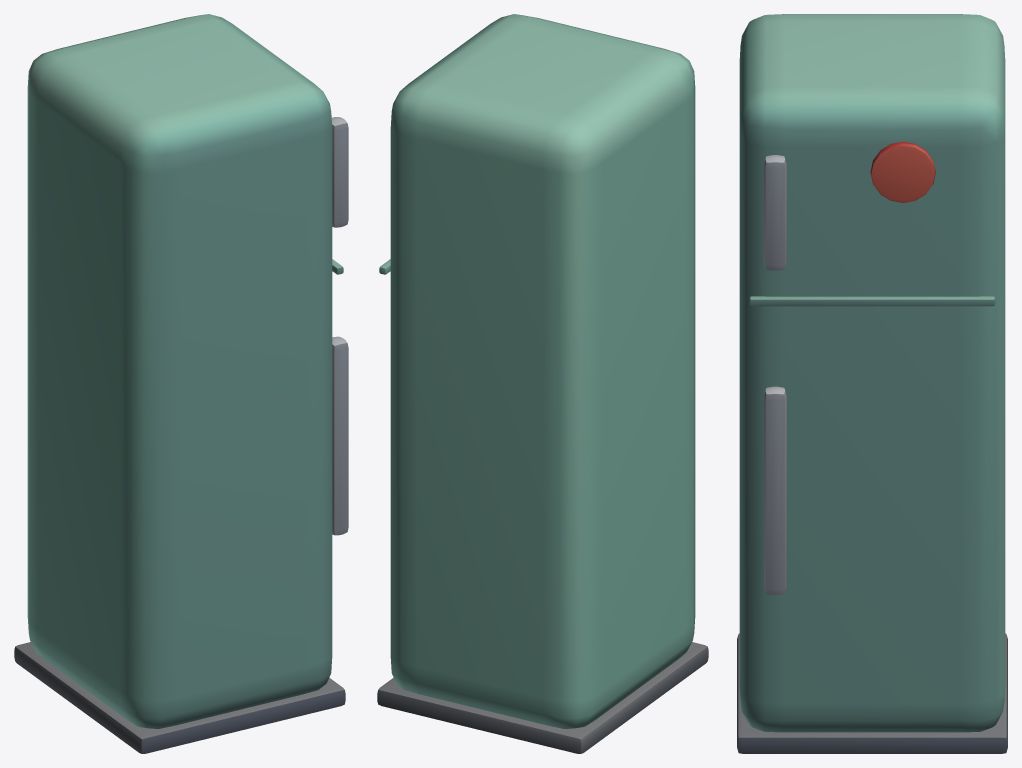
File: Fridge.fbx
3 renders of one model, left to right at view 1: azimuth 30°, elevation 25°; view 2: azimuth 150°, elevation 25°; view 3: azimuth 270°, elevation 25°, orthographic. The views are drawn at different scales.
Parts seen in each view (by area): view 1: SM_Kitchen_Fridge; view 2: SM_Kitchen_Fridge; view 3: SM_Kitchen_Fridge.
Boxes of the visible parts, <box> form: SM_Kitchen_Fridge: <box>14,14,348,753</box>; SM_Kitchen_Fridge: <box>377,14,708,753</box>; SM_Kitchen_Fridge: <box>737,14,1007,753</box>.
Bounding box in the file's own units: 2.65 × 7 × 2.65.
